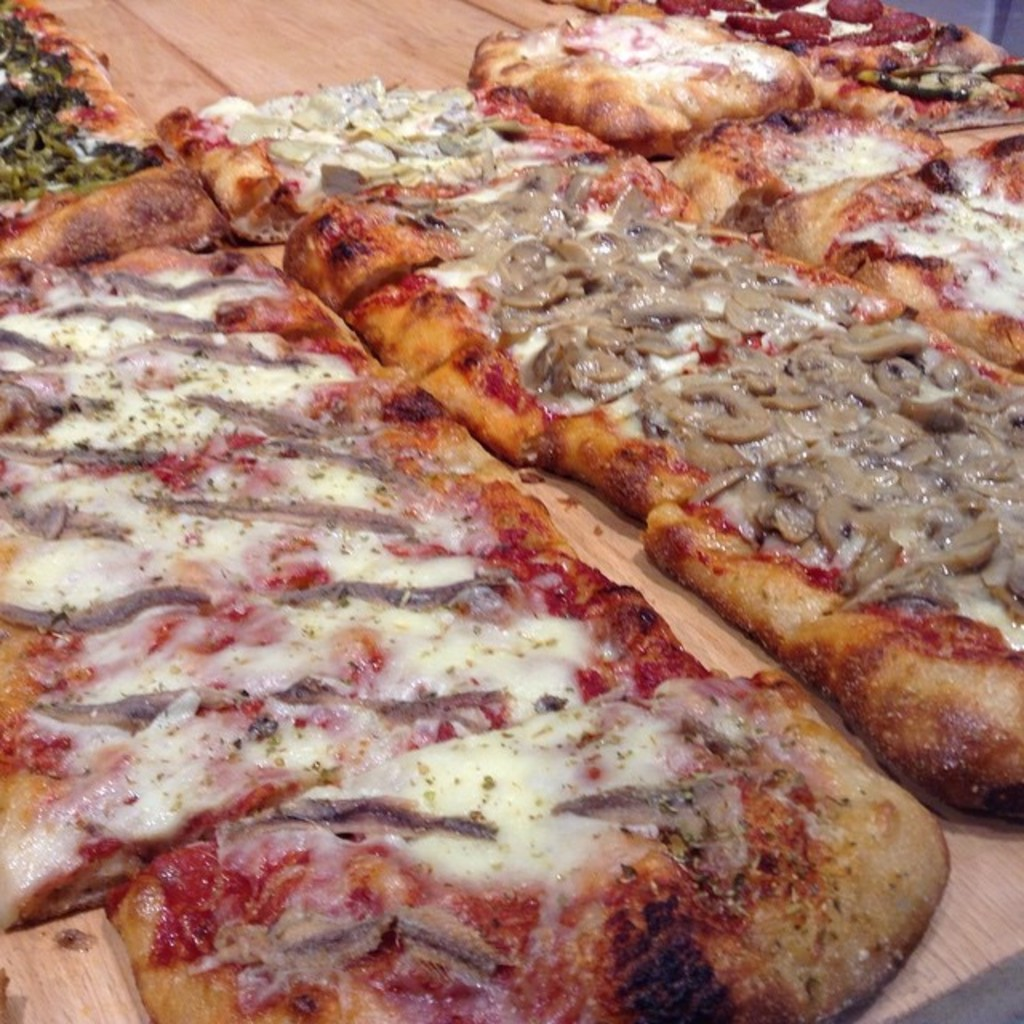Pizza: (0, 0, 710, 935), (158, 80, 1022, 838), (102, 668, 945, 1022), (472, 11, 1022, 366)
